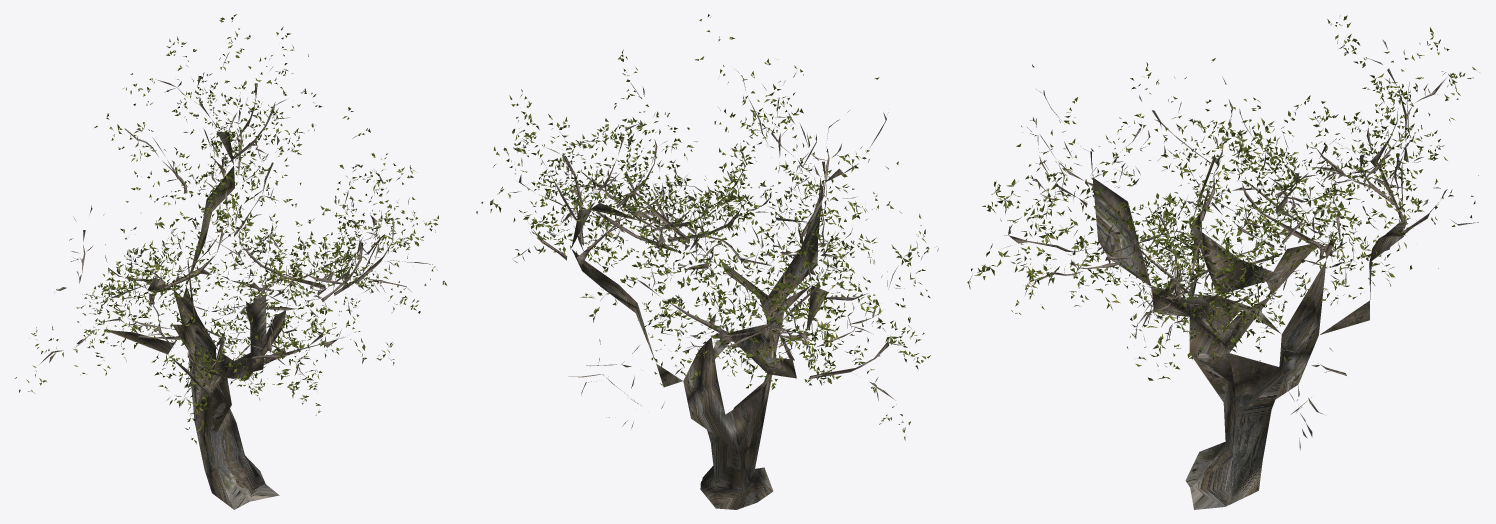
Rendered from island1.glb.
The picture shows the model from 3 angles, left to right: view 1: azimuth 30°, elevation 25°; view 2: azimuth 150°, elevation 25°; view 3: azimuth 270°, elevation 25°; orthographic projection. The views are drawn at different scales.
Visible parts, largest first — view 1: island_tree_01_LOD0; view 2: island_tree_01_LOD0; view 3: island_tree_01_LOD0.
Part boxes in pixels (x1,y1,x2,y2): island_tree_01_LOD0: (15, 14, 447, 509); island_tree_01_LOD0: (476, 14, 938, 509); island_tree_01_LOD0: (967, 15, 1479, 509).
Size of the model in its own units: 4.69 by 4.93 by 4.54.
3 materials, 3 textured.
